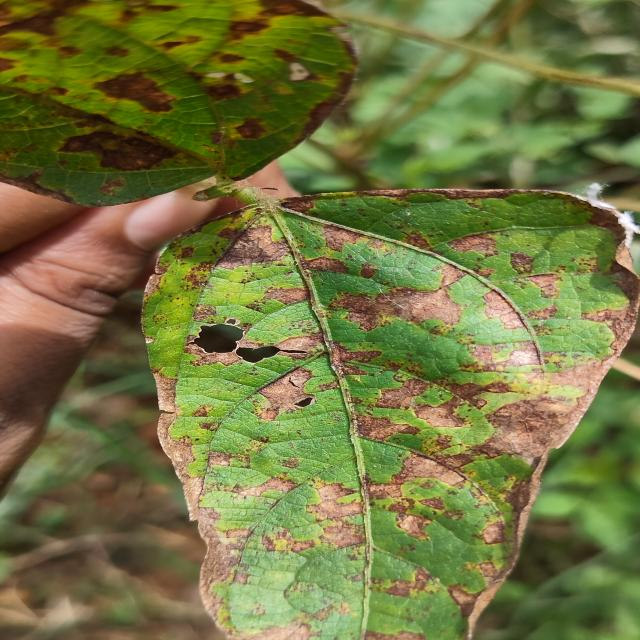Black gram_leaf spot: (142, 190, 637, 640), (1, 0, 356, 205)
